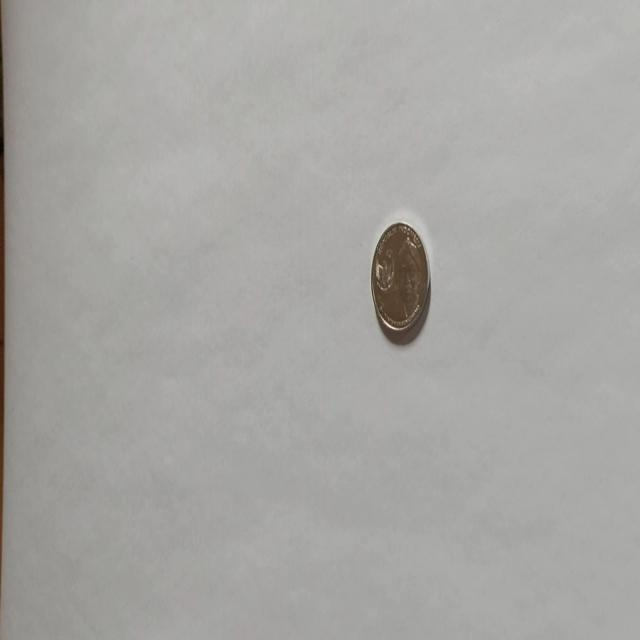dua ratus rupiah: (369, 218, 431, 344)
